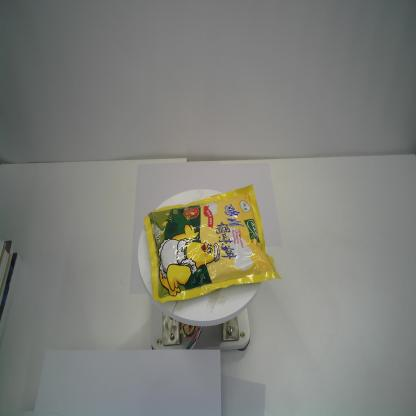Seasoner: (142, 182, 282, 305)
